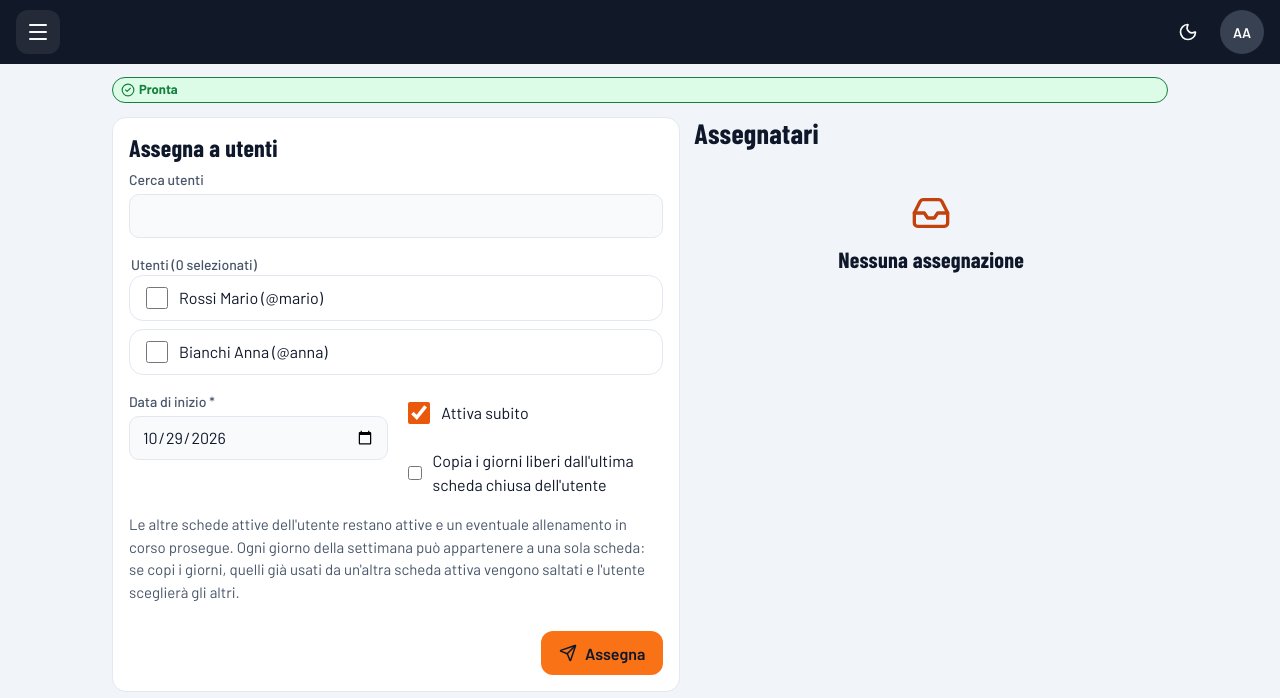
Test case: plan assignments (ADMIN) › requires at least one user
(page scrolled)
Click the button "Assegna" at (602, 654), box [541,632,663,676]
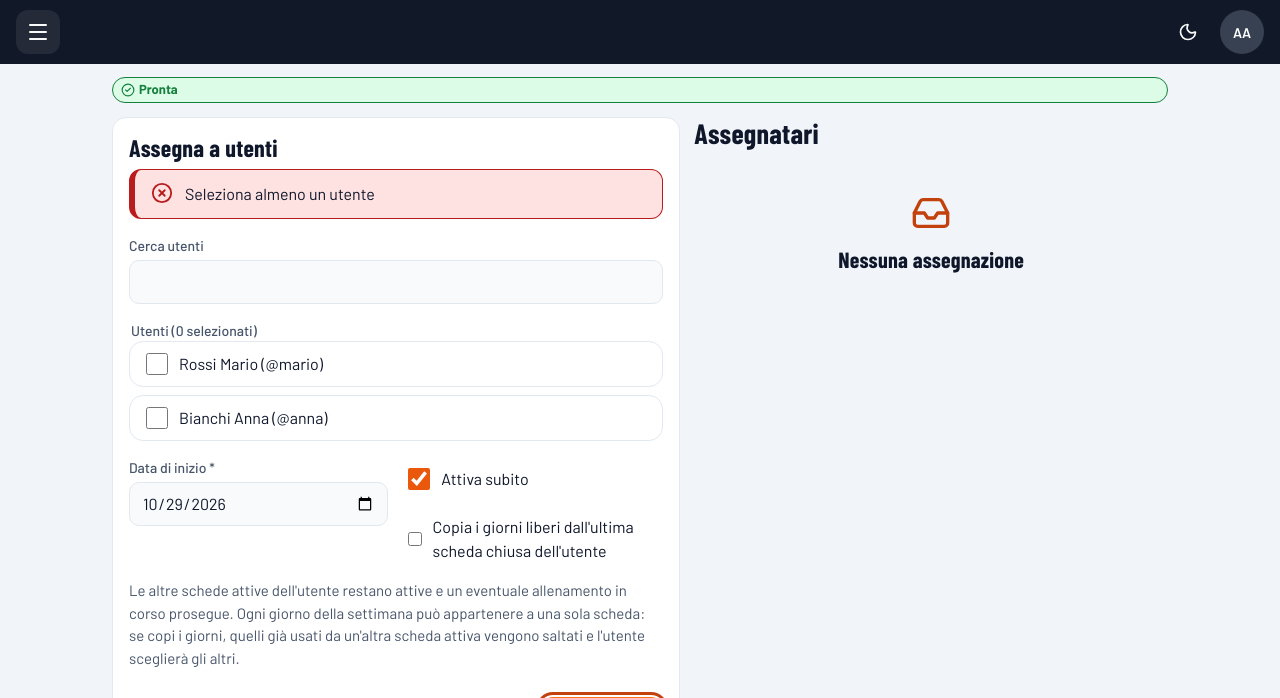
Expected: the text "Seleziona almeno un utente" is shown, [185,184,375,204]
